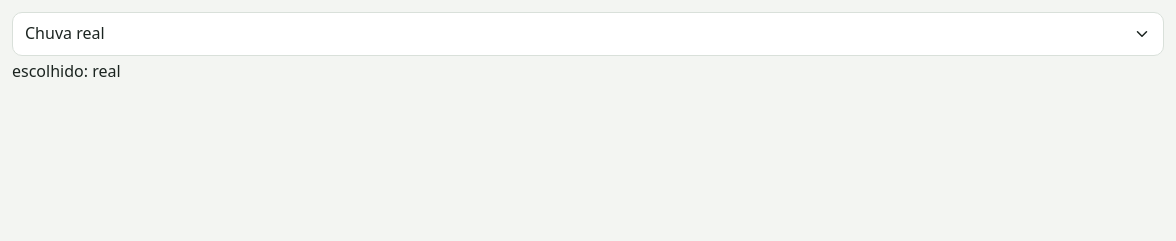
Scenario: Seletor (dropdown do app) › fecha ao tocar fora, sem trocar o valor
Later steps or results of the test are not shown.
Step 1. Click the dropdown with test id "sel" → x=65, y=33, box [12, 12, 1164, 56]
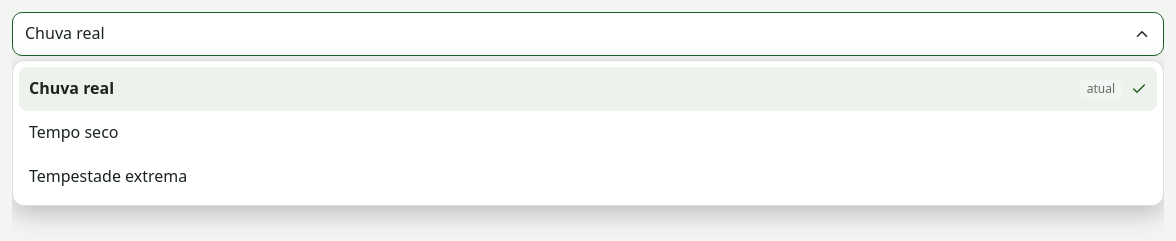
Expected: the list is shown, [12, 60, 1164, 206]
